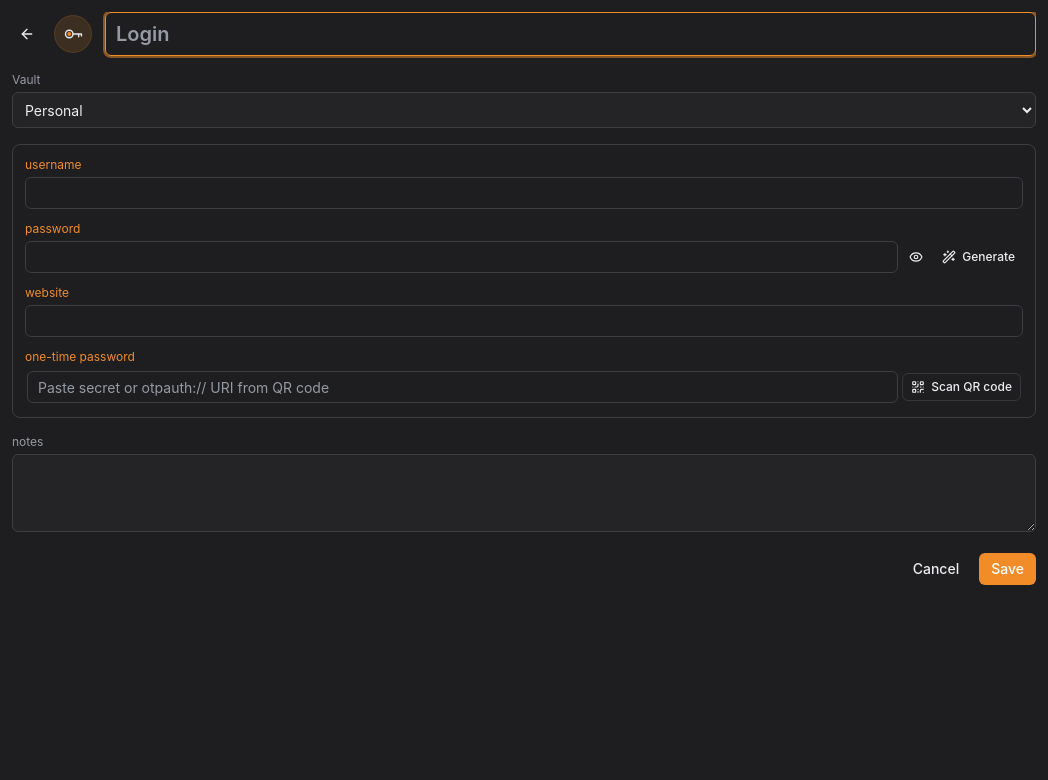
TOTP QR code scanning › CreateForm: renders Scan QR code button next to TOTP field and opens menu
Note: Click button to open dropdown menu
Click the button with test id "totp-scan-button": (962, 387) [902, 373, 1021, 401]
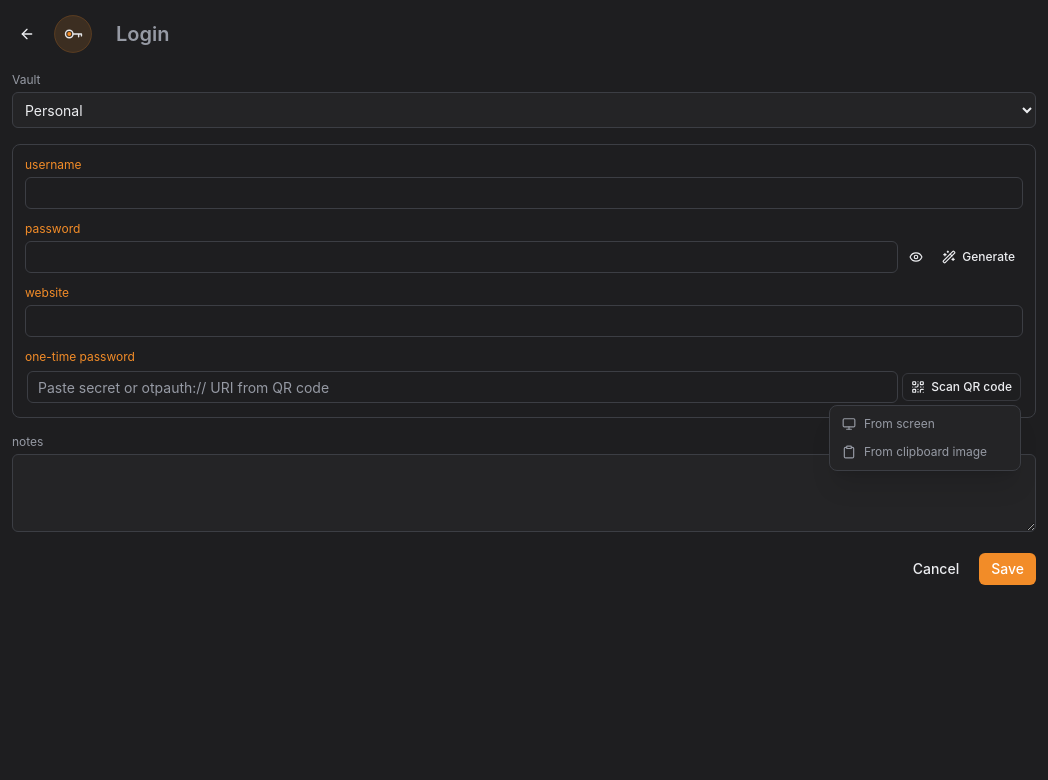
Result: the menu item with test id "scan-qr-screen" is shown at [842, 416, 935, 431]
Result: the menu item with test id "scan-qr-clipboard" is shown at [842, 444, 987, 459]
